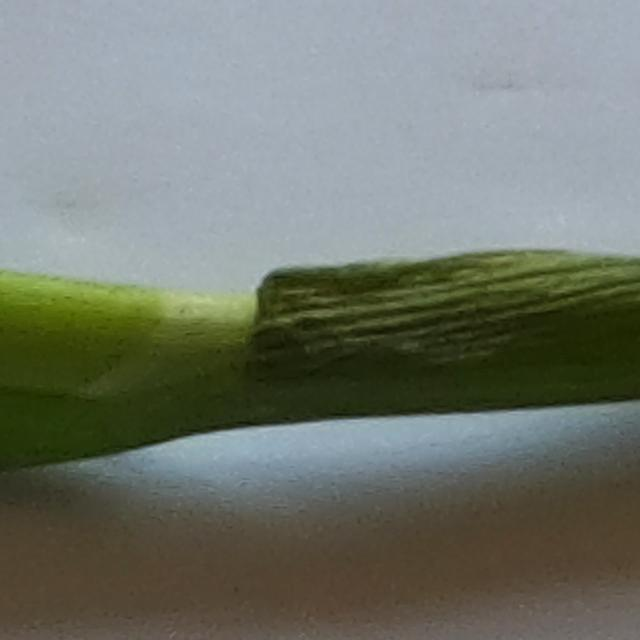green_onion: (0, 254, 640, 484)
